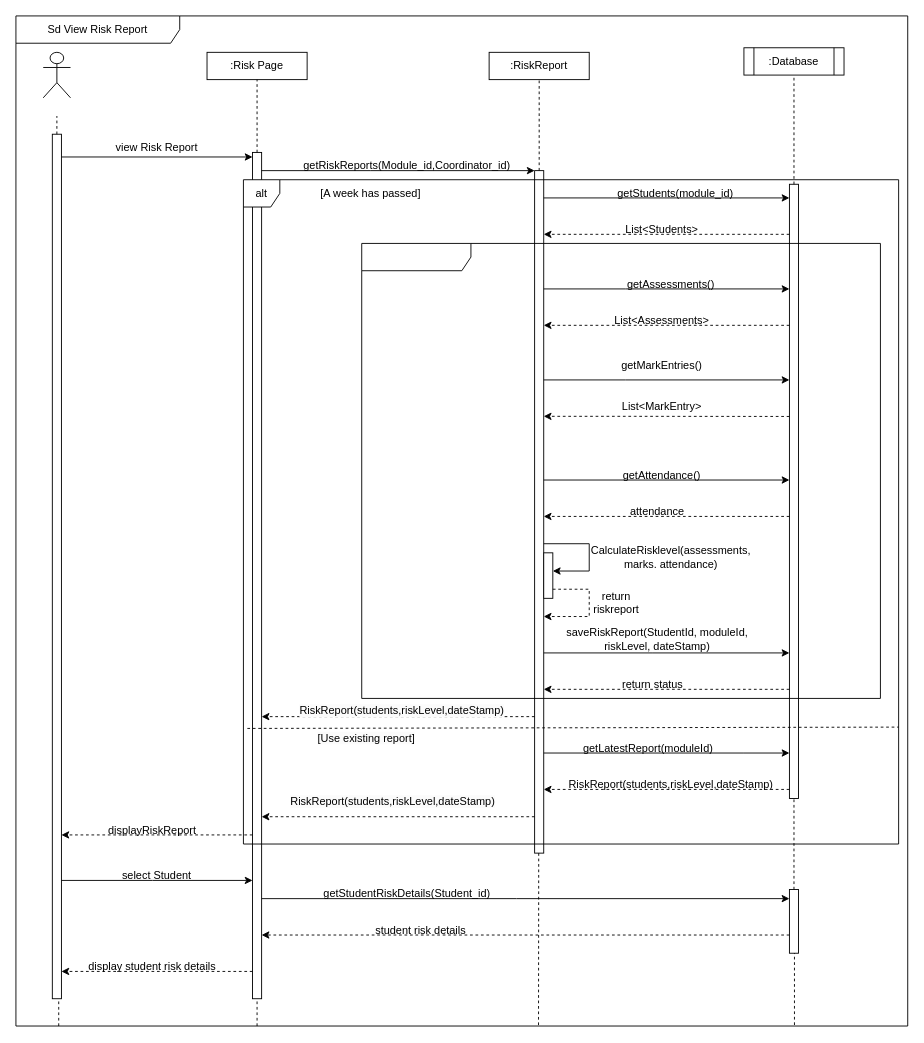
The diagram is 924 pixels wide and 1043 high, and some of its shapes have lost their labels. Here are the shapes that lost their labels. From the top down, the centre of each, then its label:
At [56,74]: "Coordinator".
At [620,470]: "Loop while students exist".
